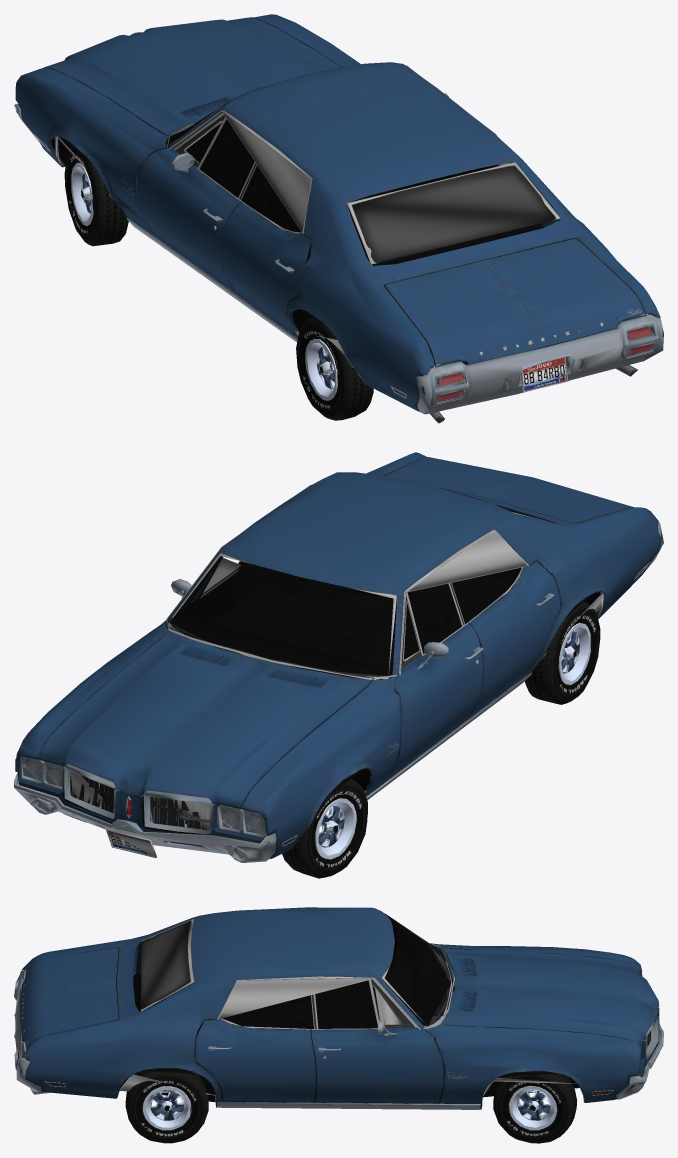
The model's file is cutlass.glb.
3 renders of one model, top to bottom at view 1: azimuth 30°, elevation 25°; view 2: azimuth 150°, elevation 25°; view 3: azimuth 270°, elevation 25°, orthographic. The views are drawn at different scales.
Parts seen in each view (by area): view 1: body, trim, glass, chrome, wheels, black, glass2, plate, lights, lights-glass; view 2: body, black, glass, chrome, wheels, trim, glass2, black2, lights, lights-glass, rear-view; view 3: body, wheels, trim, black, glass, glass2, chrome.
Part boxes in pixels (x1,y1,x2,y2): body: (15,14,663,411); trim: (54,65,659,382); glass: (170,100,555,262); chrome: (14,93,663,414); wheels: (64,146,373,420); black: (52,80,543,364); glass2: (186,120,510,231); plate: (522,357,566,390); lights: (437,326,653,401); lights-glass: (437,327,652,401); body: (15,452,662,859); black: (62,515,601,834); glass: (170,479,554,676); chrome: (14,522,663,862); wheels: (62,601,600,878); trim: (70,485,603,829); glass2: (191,563,520,658); black2: (238,561,379,653); lights: (26,760,263,858); lights-glass: (26,760,263,858); rear-view: (171,579,448,669); body: (19,907,659,1109); wheels: (125,1071,576,1143); trim: (22,912,651,1107); black: (120,913,611,1103); glass: (136,914,450,1026); glass2: (222,937,397,1028); chrome: (14,970,663,1109).
Size of the model in its own units: 91.31 by 66.17 by 241.
Materials: 8 (7 with a texture image).
